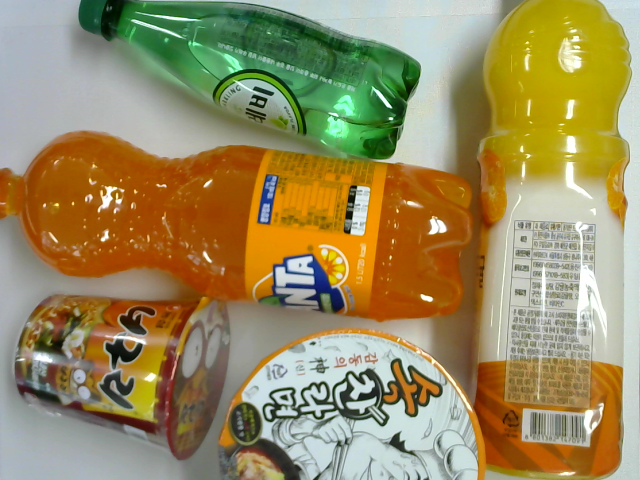Hejangchan: (216, 328, 490, 480)
Hwanta_Orange_1.5L: (1, 124, 476, 322)
Jeju_Tangerine_1.5L: (472, 1, 629, 480)
Raccoon: (11, 286, 232, 461)
Treviraim_500ml: (76, 1, 426, 164)
